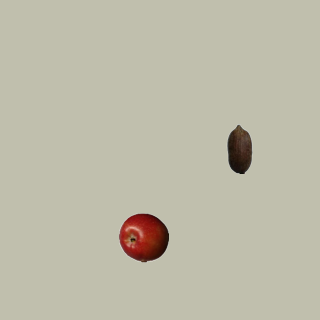Apple Braeburn: (118, 212, 168, 262)
Nut Pecan: (214, 123, 264, 173)
